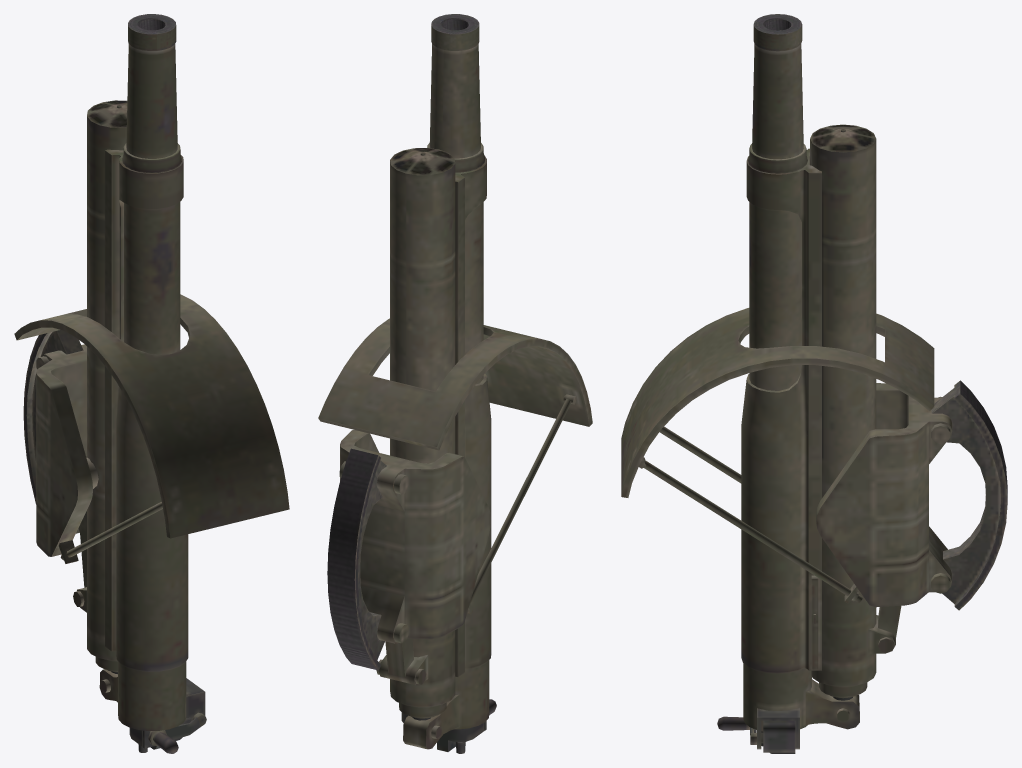
File: Gun_02.glb
3 renders of one model, left to right at view 1: azimuth 30°, elevation 25°; view 2: azimuth 150°, elevation 25°; view 3: azimuth 270°, elevation 25°, orthographic.
Visible parts, largest first — view 1: set_0_group_0; view 2: set_0_group_0; view 3: set_0_group_0.
Part boxes in pixels (x1,y1,x2,y2): set_0_group_0: (14,14,289,753); set_0_group_0: (318,14,592,753); set_0_group_0: (621,14,1007,753).
Bounding box in the file's own units: 0.3849 × 2.24 × 1.08.
1 material, 1 textured.
